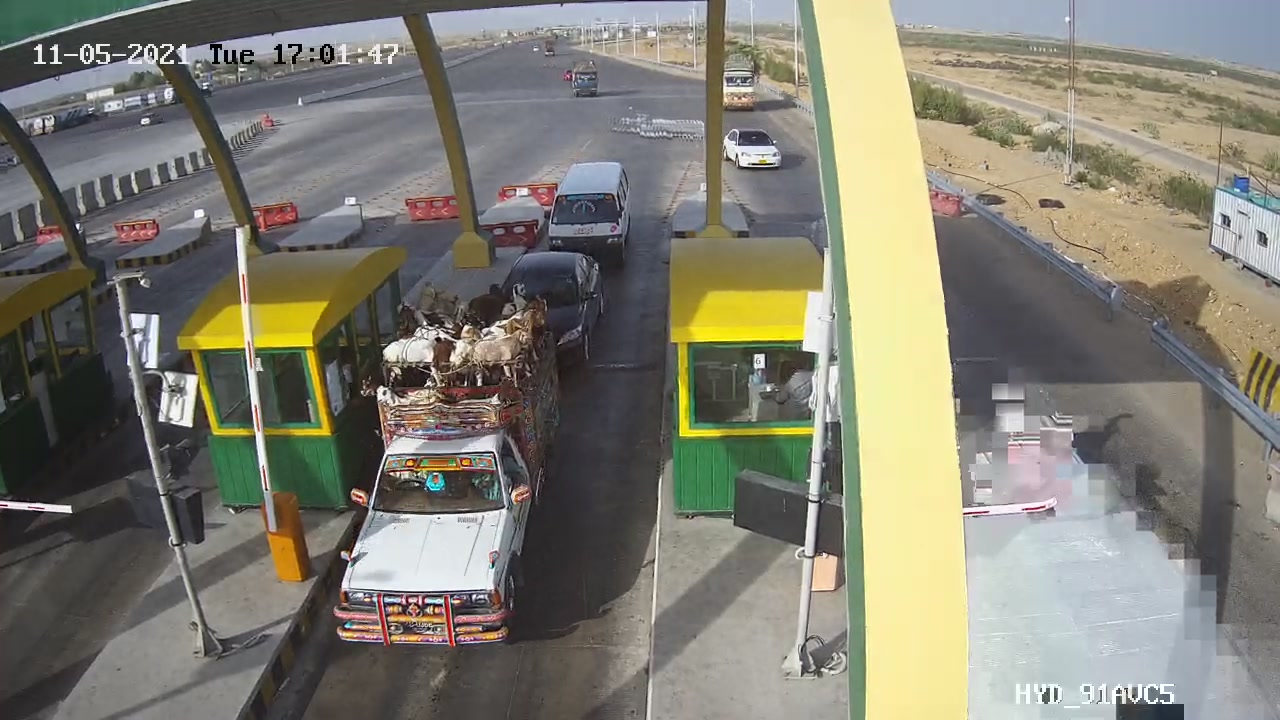F1: (333, 292, 570, 665)
F2: (538, 151, 646, 281)
